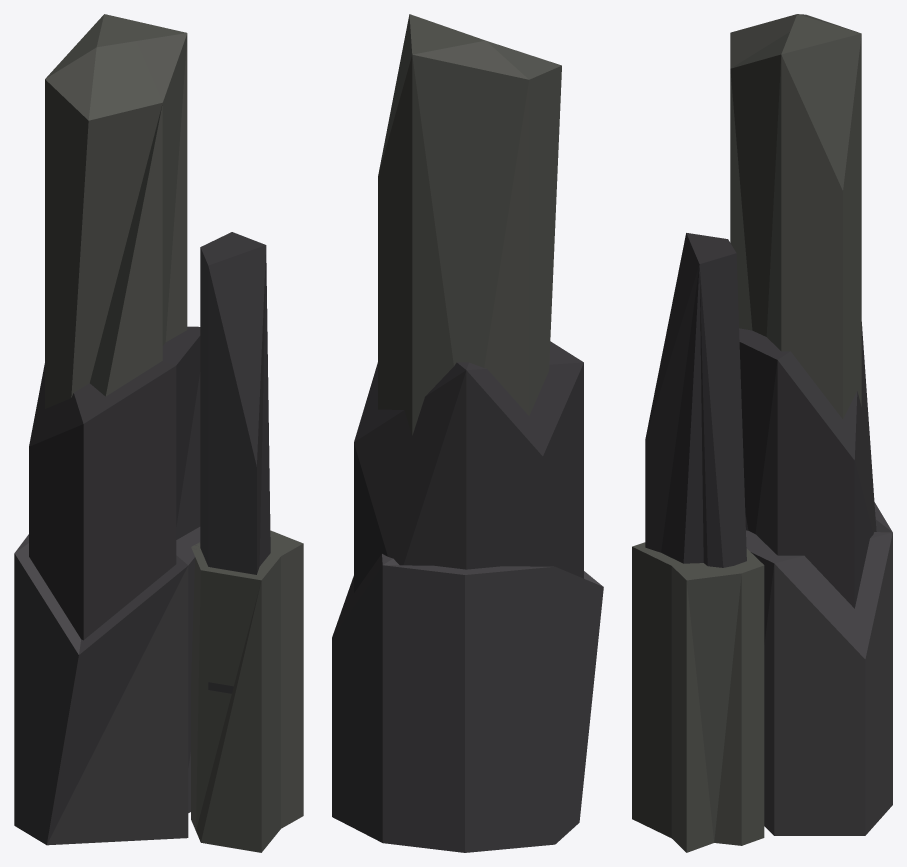
File: AO_Rock02.fbx
3 renders of one model, left to right at view 1: azimuth 30°, elevation 25°; view 2: azimuth 150°, elevation 25°; view 3: azimuth 270°, elevation 25°, orthographic.
Parts seen in each view (by area): view 1: AO_Rock02; view 2: AO_Rock02; view 3: AO_Rock02.
Boxes of the visible parts, box(x1,y1,x2,y2) form: AO_Rock02: box(14, 14, 303, 852); AO_Rock02: box(332, 14, 603, 852); AO_Rock02: box(632, 14, 892, 852).
Bounding box in the file's own units: 109 × 352 × 109.
1 material, 1 textured.
